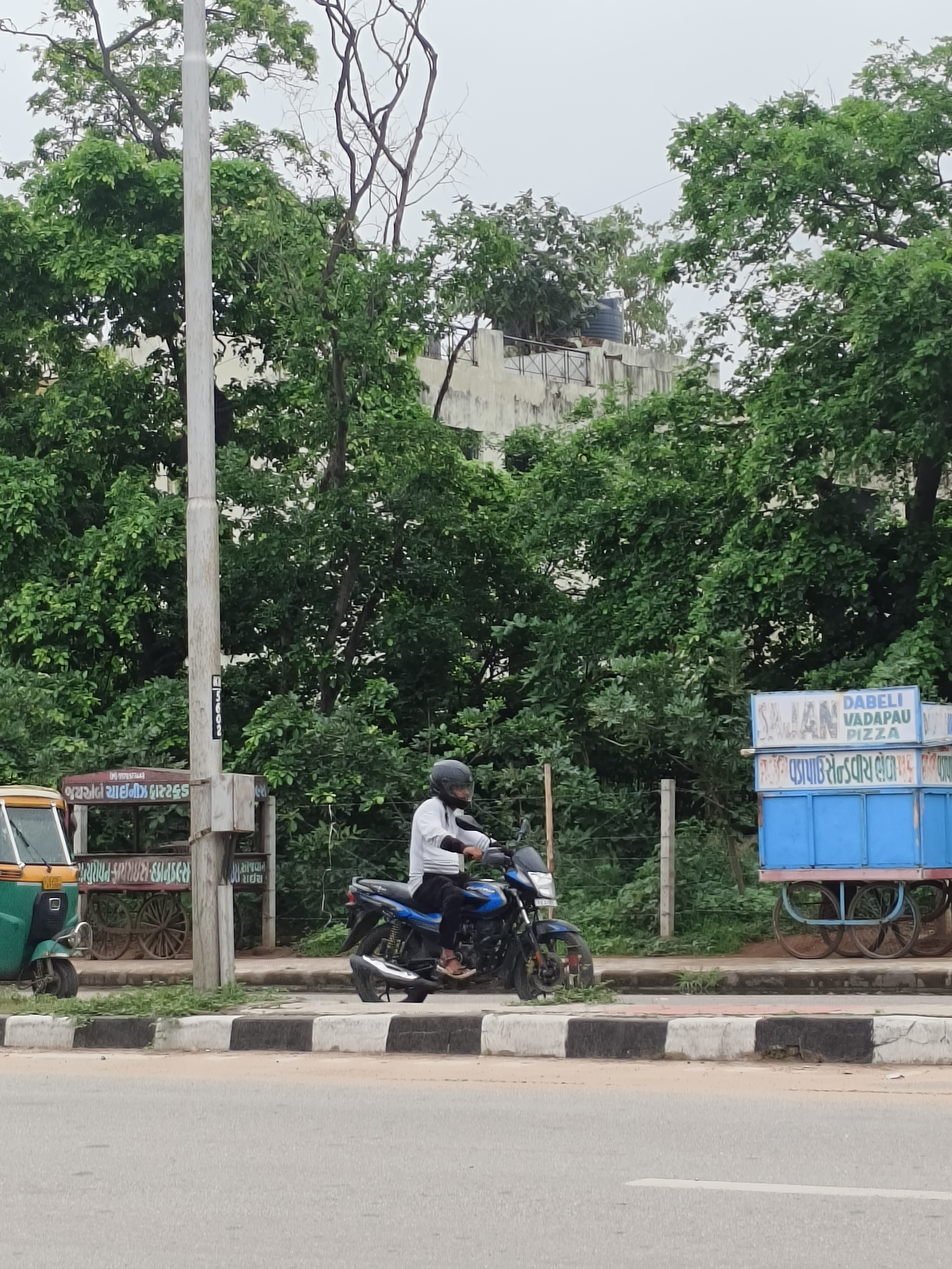BikeWithRider: (321, 752, 602, 1005)
Helmet: (422, 749, 480, 809)
